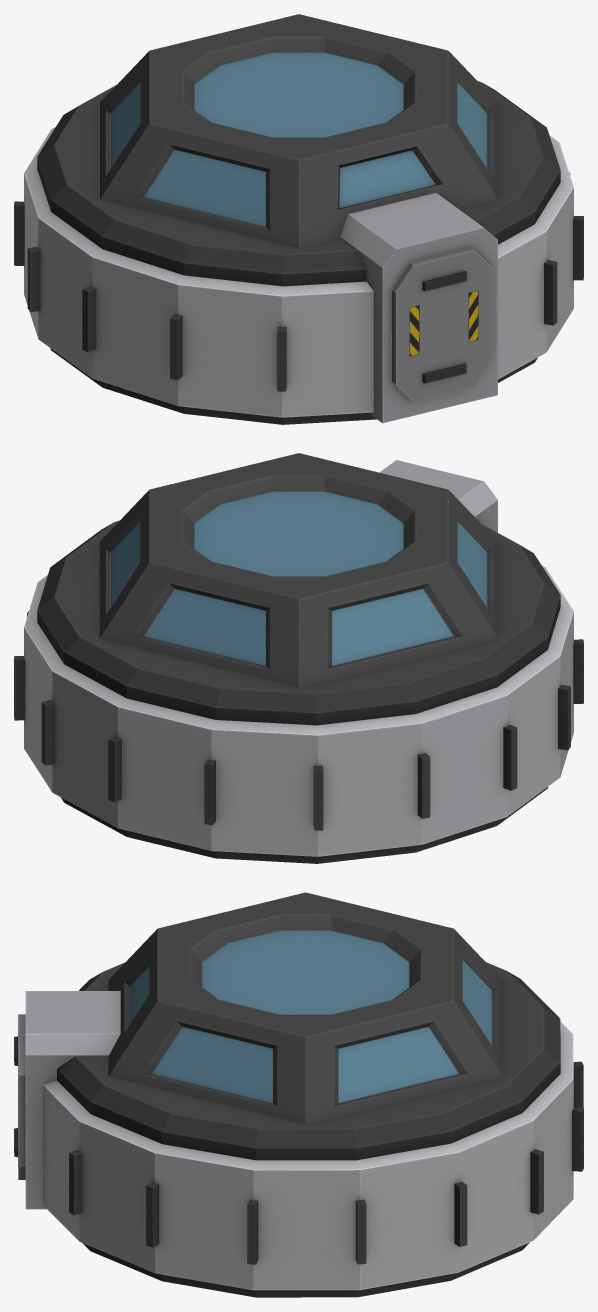
Rendered from a306ef6d-54db-4cdf-8b8b-2ea031df83f5.glb.
3 views of the same model, one above another, from view 1: azimuth 30°, elevation 25°; view 2: azimuth 150°, elevation 25°; view 3: azimuth 270°, elevation 25° (orthographic).
Visible parts, largest first — view 1: PPD12CupolaModule_mesh; view 2: PPD12CupolaModule_mesh; view 3: PPD12CupolaModule_mesh.
Boxes of the visible parts, x1,y1,x2,y2 form: PPD12CupolaModule_mesh: (14, 14, 583, 424); PPD12CupolaModule_mesh: (14, 453, 583, 863); PPD12CupolaModule_mesh: (14, 892, 583, 1297).
Bounding box in the file's own units: 5.28 × 2.36 × 5.41.
1 material, 1 textured.
